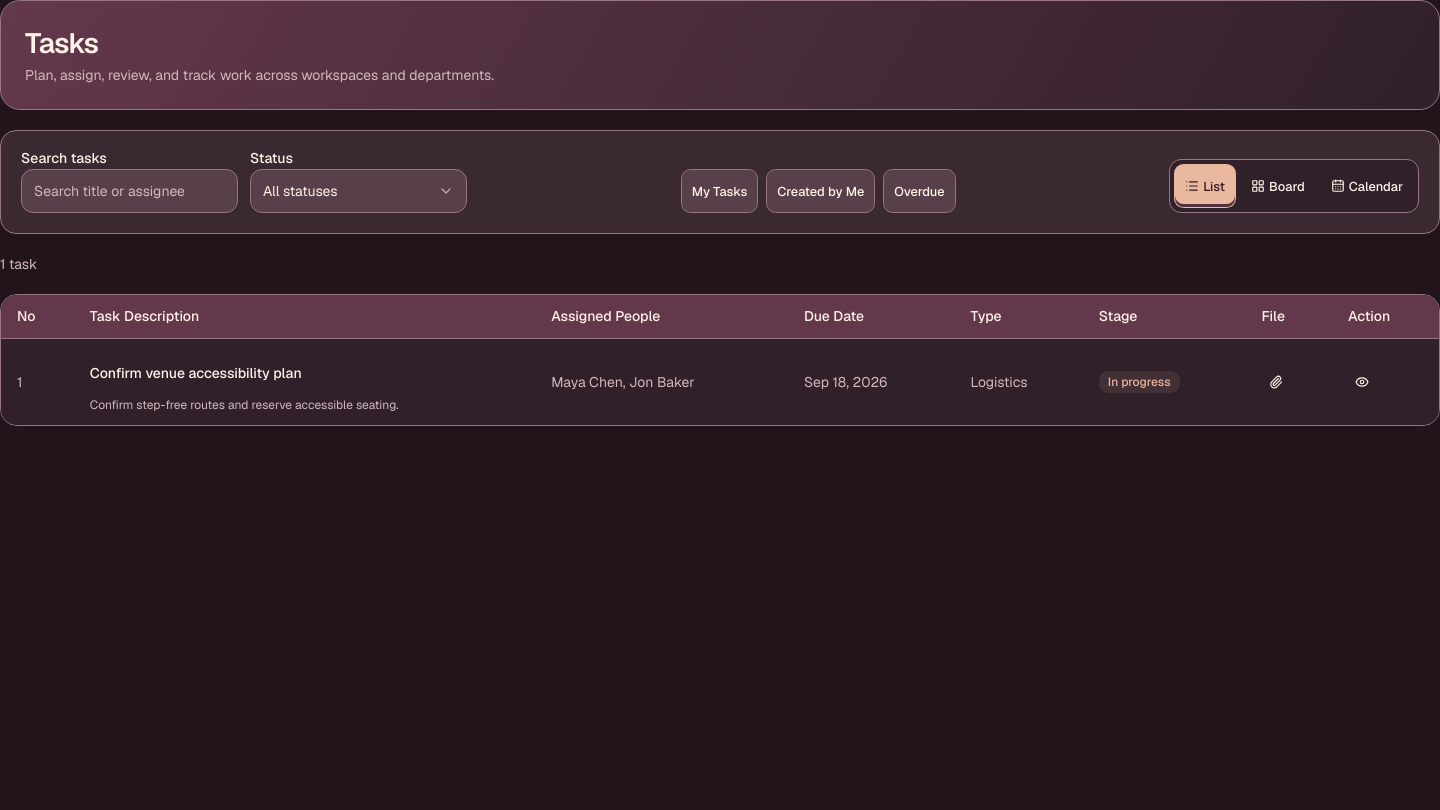
Test: TasksManager › shows a top-level task's subtasks and lets an assigner open the add-subtask dialog
Click the button "Confirm venue accessibility plan" at coordinates (196, 373), box [90,351,302,395]
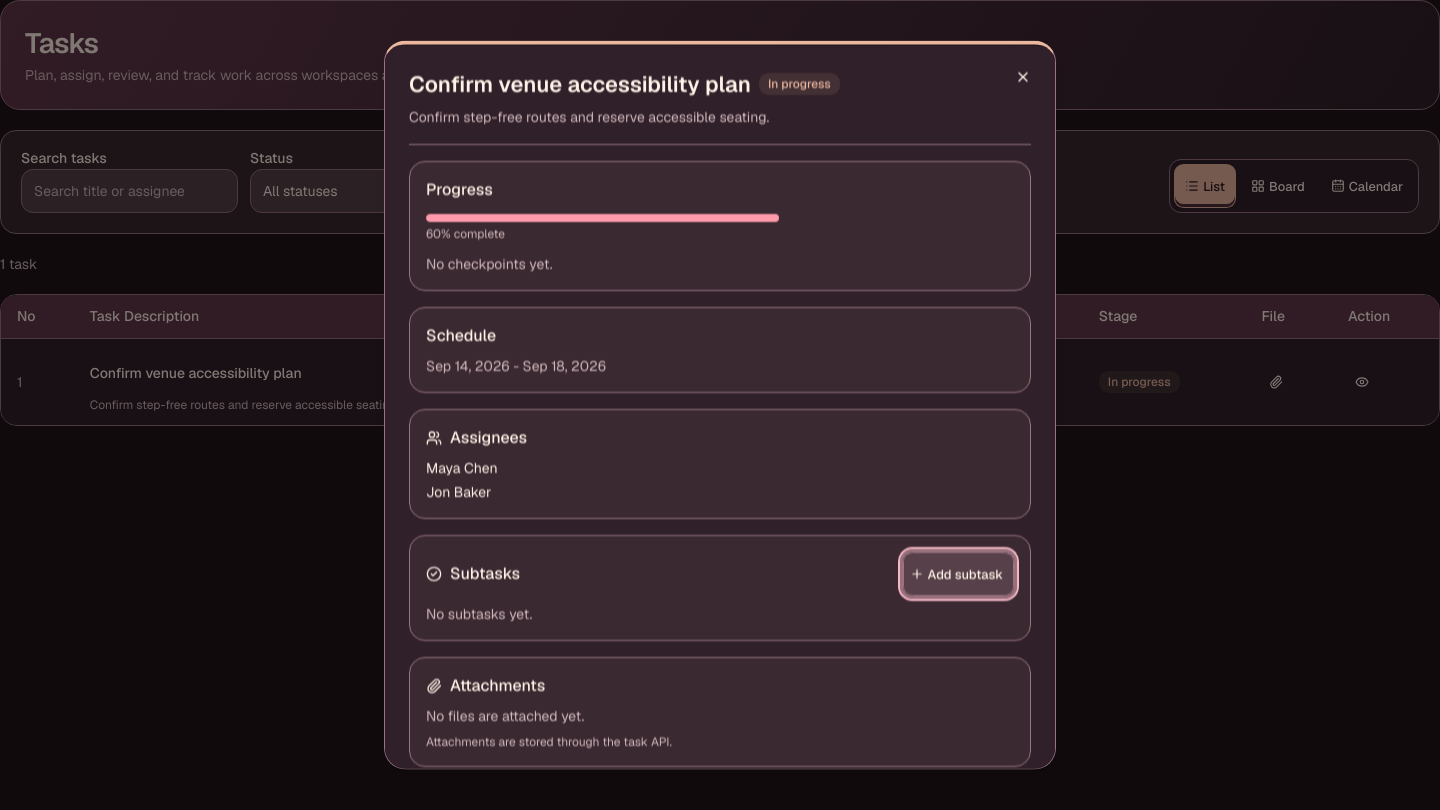
expect the heading "Subtasks" is shown: met, box [426,562,520,586]
expect the text "No subtasks yet." is shown: met, box [426,605,532,623]
Click the button "Add subtask" at coordinates (958, 574), box [903,552,1014,596]
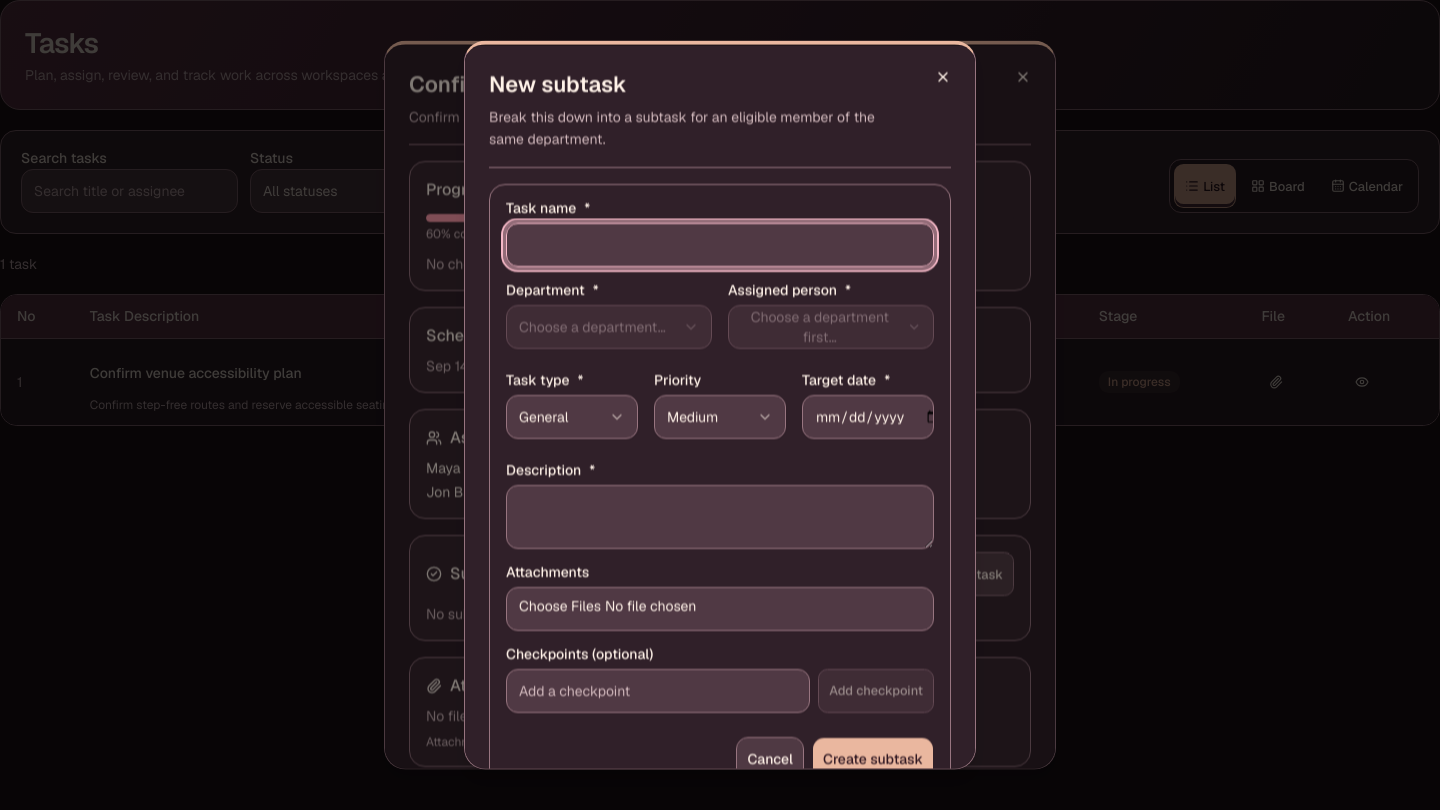
expect the heading "New subtask" is shown: met, box [489,70,627,98]
expect the dropdown labelled "department" is disabled: met, box [506,304,712,348]
